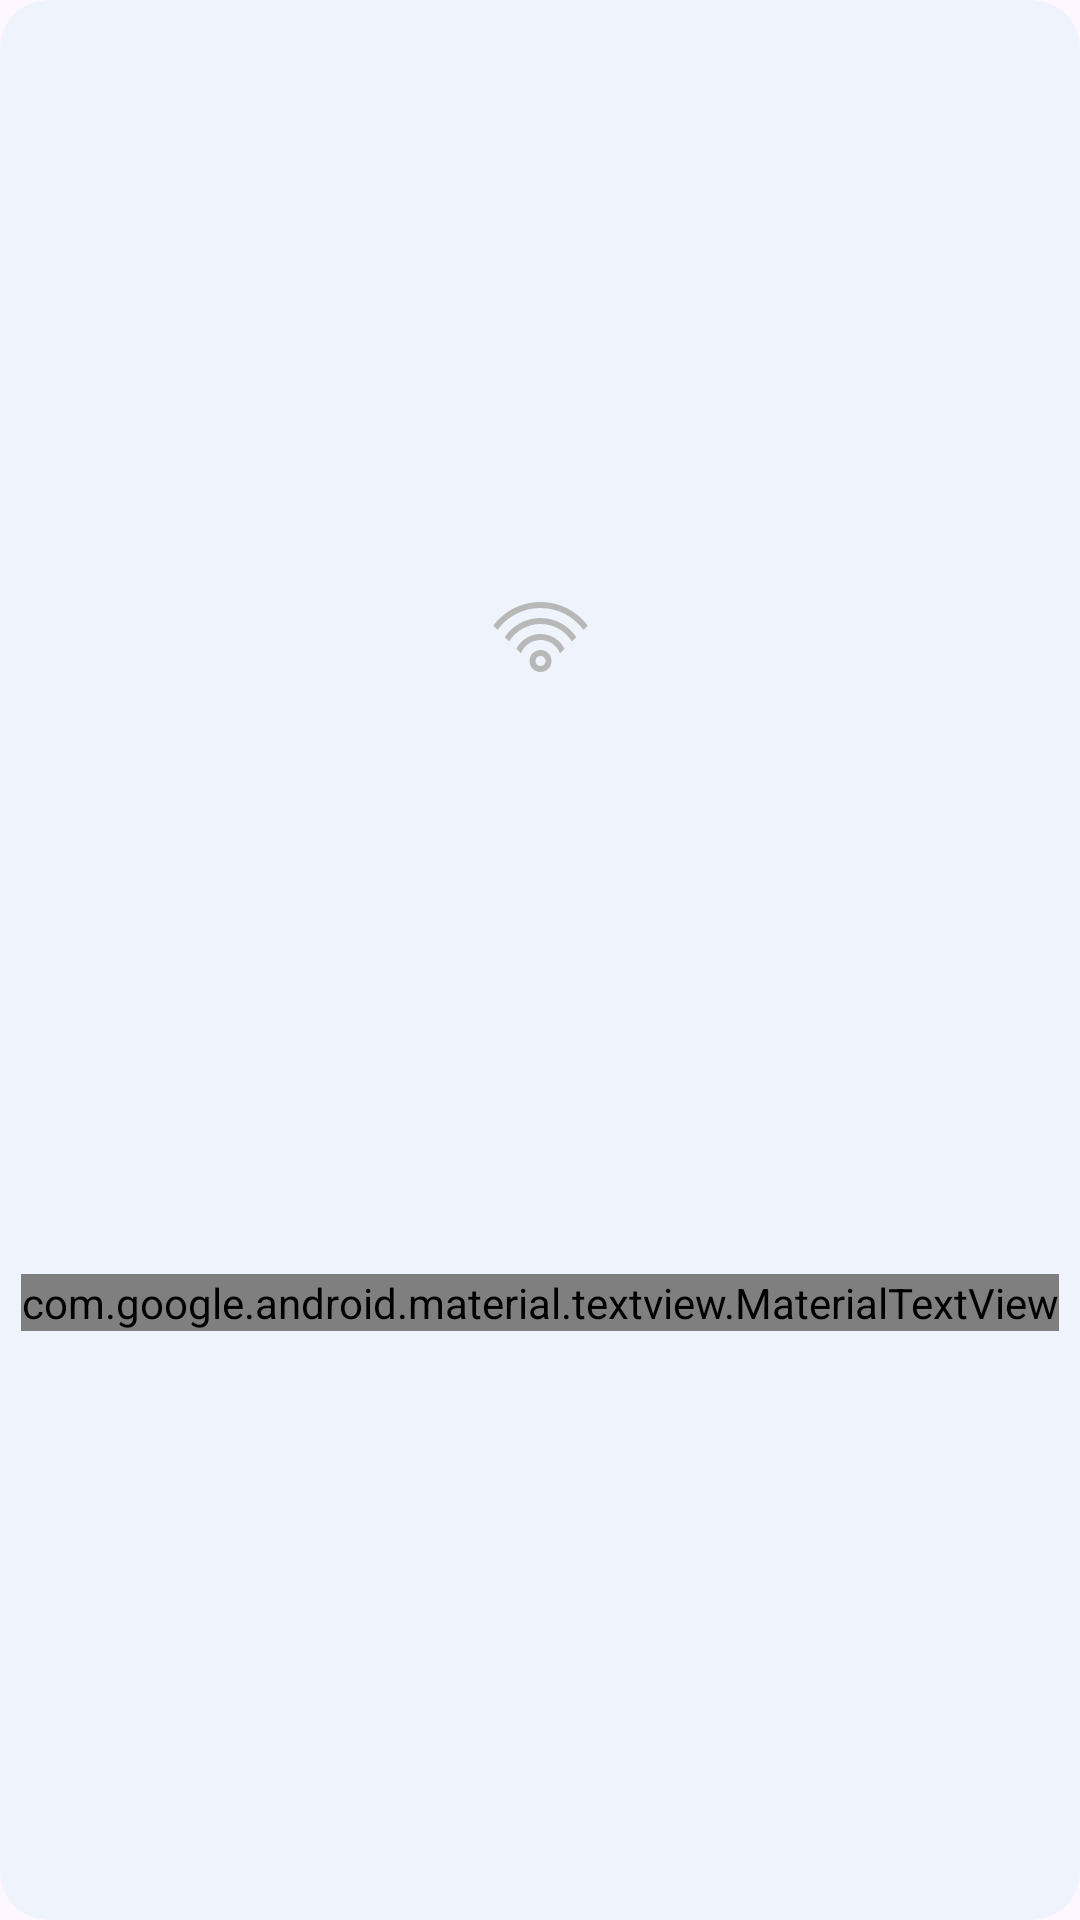

Icon bounding boxes for this 1080*1920 phone screenshot, format (x1, y1, x2, y2):
wifi: (493, 602, 588, 672)
